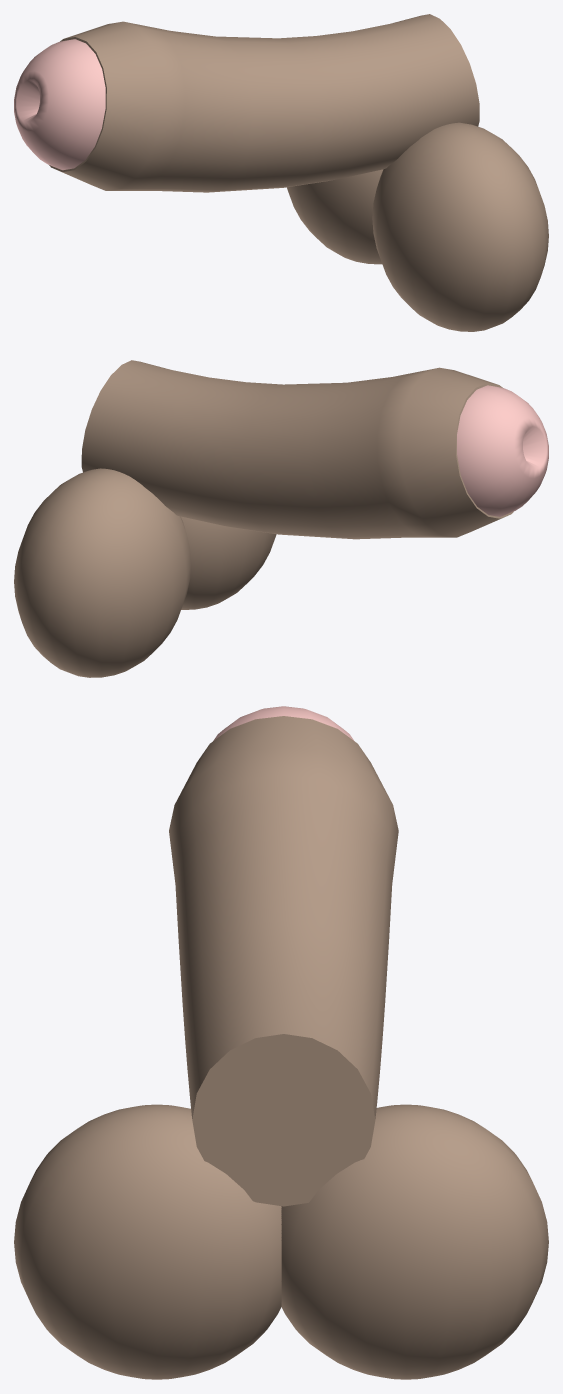
File: tiiiiiiiinko.fbx
3 renders of one model, top to bottom at view 1: azimuth 30°, elevation 25°; view 2: azimuth 150°, elevation 25°; view 3: azimuth 270°, elevation 25°, orthographic. The views are drawn at different scales.
Parts seen in each view (by area): view 1: polySurface5, pSphere5, pSphere4; view 2: polySurface5, pSphere4, pSphere5; view 3: polySurface5, pSphere5, pSphere4.
Part boxes in pixels (x1=…): polySurface5: x1=14, y1=14, x2=479, y2=192; pSphere5: x1=372, y1=122, x2=548, y2=331; pSphere4: x1=286, y1=169, x2=383, y2=264; polySurface5: x1=81, y1=360, x2=548, y2=539; pSphere4: x1=14, y1=468, x2=191, y2=677; pSphere5: x1=181, y1=516, x2=276, y2=609; polySurface5: x1=169, y1=706, x2=398, y2=1206; pSphere5: x1=14, y1=1104, x2=281, y2=1379; pSphere4: x1=281, y1=1104, x2=548, y2=1379.
Bounding box in the file's own units: 7.84 × 5.34 × 5.84.
